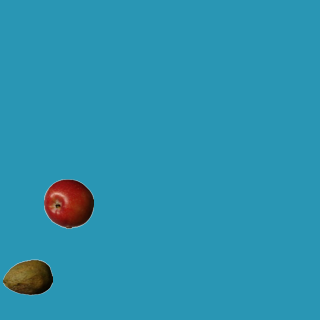Apple Braeburn: (43, 178, 93, 228)
Papaya: (2, 252, 52, 302)
